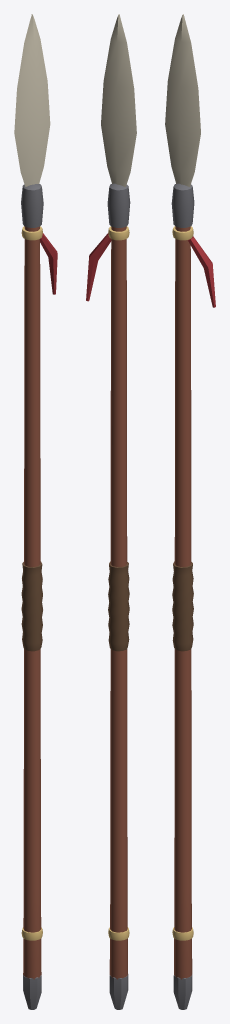
Rendered from wyrmtooth_lance.glb.
3 renders of one model, left to right at view 1: azimuth 30°, elevation 25°; view 2: azimuth 150°, elevation 25°; view 3: azimuth 330°, elevation 25°, orthographic.
Visible parts, largest first — view 1: wyrmtooth_lance; view 2: wyrmtooth_lance; view 3: wyrmtooth_lance.
Boxes of the visible parts, bbox=[...] form: wyrmtooth_lance: bbox=[14, 14, 57, 1009]; wyrmtooth_lance: bbox=[86, 14, 136, 1009]; wyrmtooth_lance: bbox=[165, 14, 215, 1009].
Size of the model in its own units: 0.1155 by 2.37 by 0.047.
